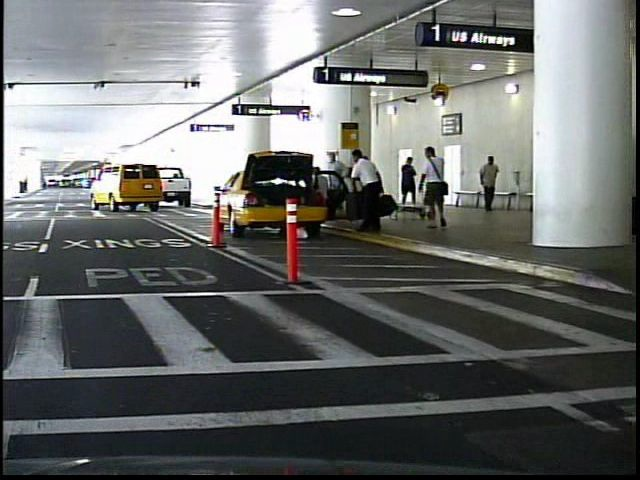person: (416, 147, 452, 232), (470, 151, 496, 213)
